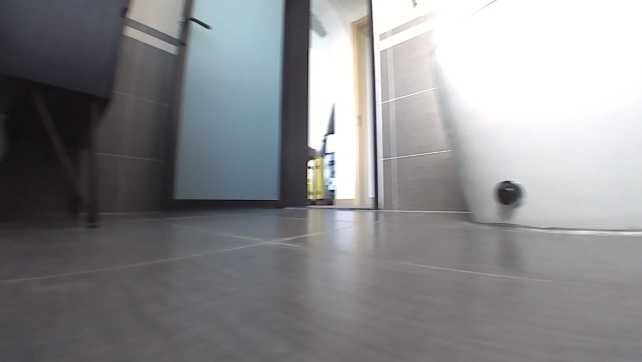door_anno: (167, 1, 309, 206)
toilet: (430, 0, 640, 230)
